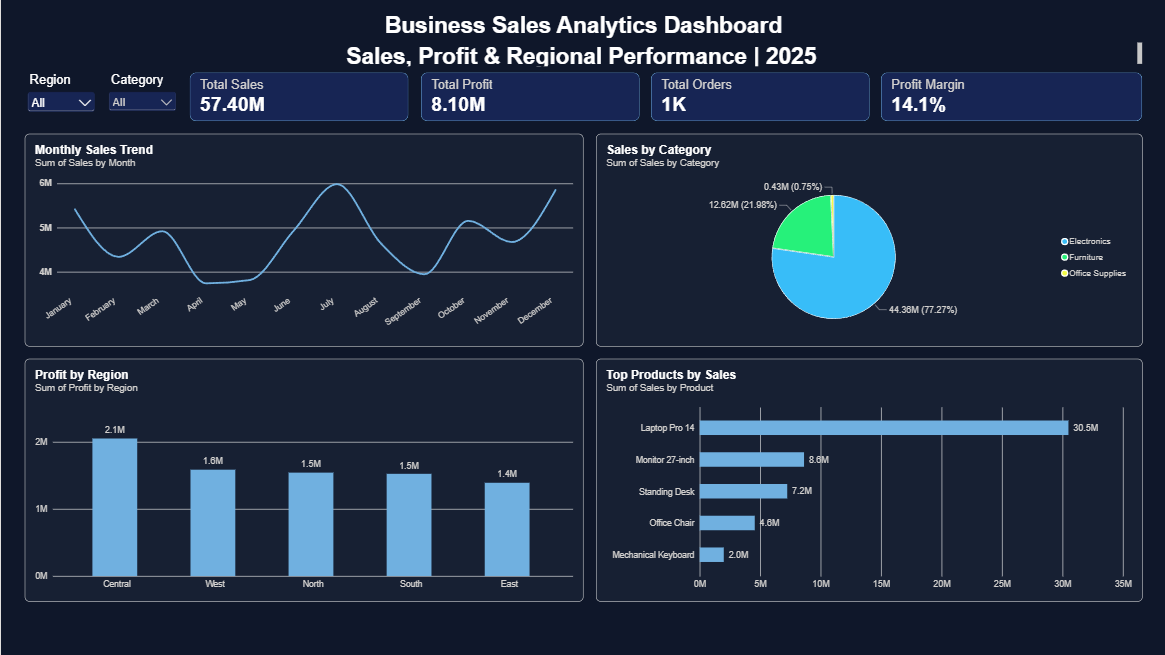

The dashboard page shown, as its layout file describes it:
{"tool":"powerbi","page":{"name":"Page 1","canvas":[1920,1080],"ordinal":0},"visuals":[{"type":"cardVisual","fields":{"Data":["Sum(business_sales sales_data.Sales)"]},"box":[310,120,360,80],"z":0},{"type":"cardVisual","fields":{"Data":["Sum(business_sales sales_data.Profit)"]},"box":[691.6,119.4,360.2,80],"z":1000},{"type":"cardVisual","fields":{"Data":["CountNonNull(business_sales sales_data.Order_ID)"]},"box":[1070,120,360,80],"z":2000},{"type":"pieChart","title":"Sales by Category","fields":{"Category":["business_sales sales_data.Category"],"Y":["Sum(business_sales sales_data.Sales)"]},"box":[980,220.2,900,350],"z":3000},{"type":"lineChart","title":"Monthly Sales Trend","fields":{"Category":["business_sales sales_data.Order_Date.Variation.Date Hierarchy.Month"],"Y":["Sum(business_sales sales_data.Sales)"]},"box":[40,220,920,350],"z":4000},{"type":"columnChart","title":"Profit by Region","fields":{"Category":["business_sales sales_data.Region"],"Y":["Sum(business_sales sales_data.Profit)"]},"box":[40,590,920,400],"z":5000},{"type":"barChart","title":"Top Products by Sales","fields":{"Category":["business_sales sales_data.Product"],"Y":["Sum(business_sales sales_data.Sales)"]},"box":[980,590,900,400],"z":6000},{"type":"slicer","fields":{"Values":["business_sales sales_data.Region"]},"box":[40,120,120,80],"z":7000},{"type":"textbox","box":[40,20,1840,50],"z":8000},{"type":"textbox","box":[39.1,70,1840.1,39.1],"z":9000},{"type":"cardVisual","fields":{"Data":["business_sales sales_data.Profit Margin %"]},"box":[1450,120,430,80],"z":10000},{"type":"slicer","fields":{"Values":["business_sales sales_data.Category"]},"box":[172.9,119.4,120,80],"z":11000}]}

Visuals, with their boxes in screenshot pixels (x1, y1, x2, y2), scaled from the page's 1920x1080 canvas onto the 1165x655 screenshot:
cardVisual - Sum(business_sales sales_data.Sales): [188,73,407,121]
cardVisual - Sum(business_sales sales_data.Profit): [420,72,638,121]
cardVisual - CountNonNull(business_sales sales_data.Order_ID): [649,73,868,121]
"Sales by Category" pieChart: [595,134,1141,346]
"Monthly Sales Trend" lineChart: [24,133,582,346]
"Profit by Region" columnChart: [24,358,582,600]
"Top Products by Sales" barChart: [595,358,1141,600]
slicer - business_sales sales_data.Region: [24,73,97,121]
textbox: [24,12,1141,42]
textbox: [24,42,1140,66]
cardVisual - business_sales sales_data.Profit Margin %: [880,73,1141,121]
slicer - business_sales sales_data.Category: [105,72,178,121]
